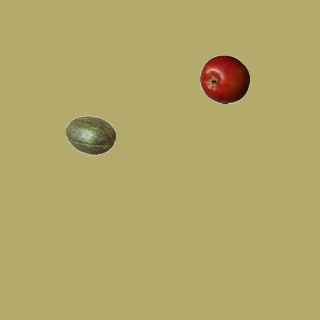Apple Braeburn: (199, 54, 249, 104)
Melon Piel de Sapo: (65, 110, 115, 160)
